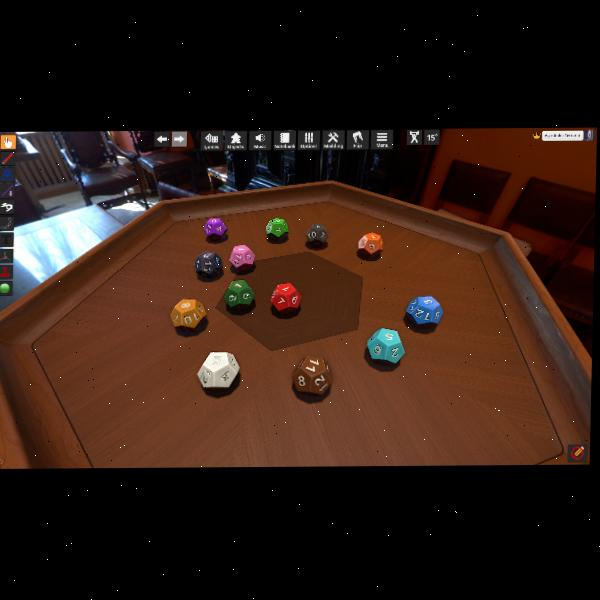d12: (290, 352, 336, 401), (196, 350, 239, 388), (367, 329, 402, 365), (172, 298, 206, 331), (405, 296, 441, 327), (270, 282, 301, 313), (224, 279, 255, 309), (229, 244, 256, 271), (195, 250, 221, 277), (358, 233, 383, 258), (203, 217, 227, 240), (305, 222, 327, 245), (266, 217, 288, 240)
